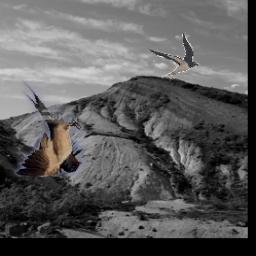Swallow: (6, 76, 83, 177), (148, 33, 199, 80)
